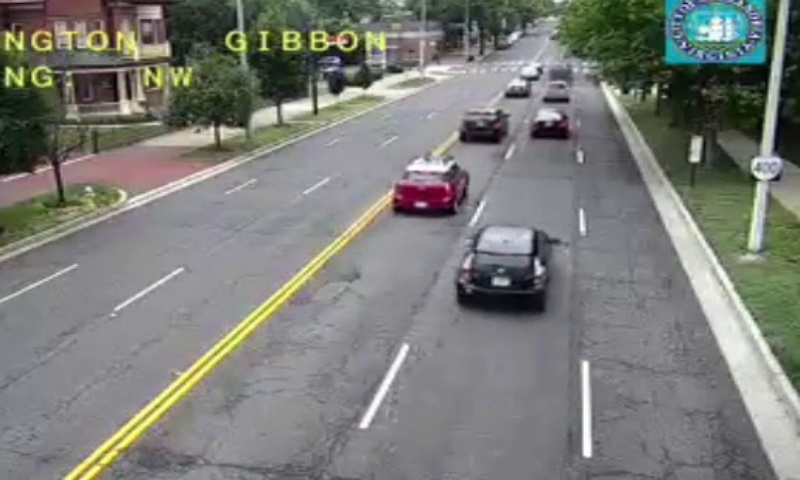car: (459, 224, 550, 300), (392, 159, 470, 209), (460, 108, 507, 138), (532, 109, 568, 137)
